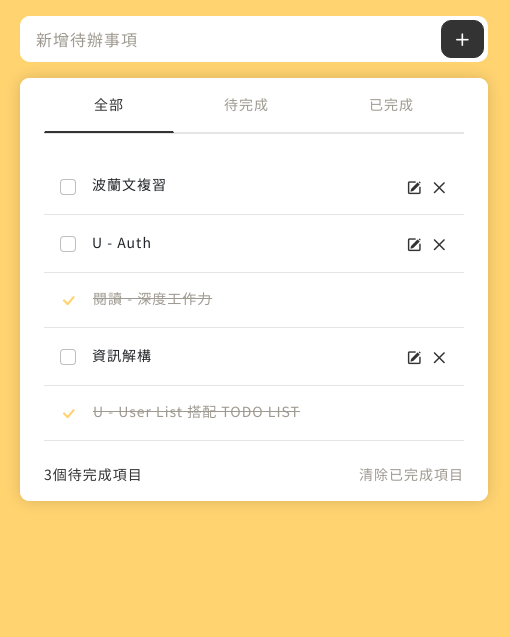
Test case: Todo List › Interaction › 新增資料時，項目增加在原先資料最上面
Type "1. 新增NEW JOBS" into the field with placeholder "新增待辦事項" at (228, 39), box [20, 16, 437, 62]
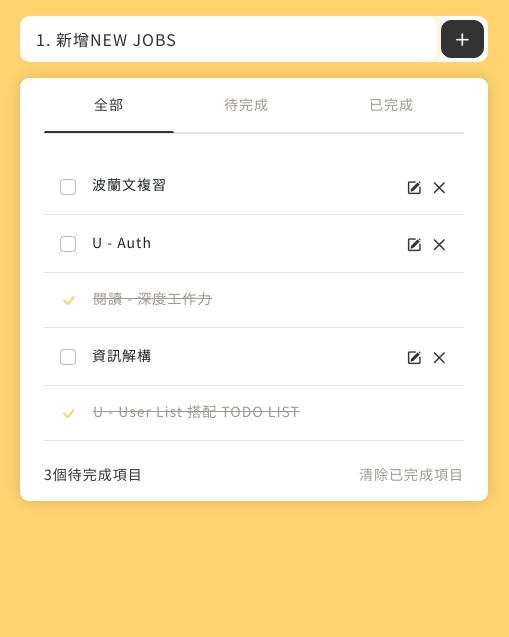
Click the button with test id "todo-form-add-button" at (462, 39), box [441, 20, 484, 58]
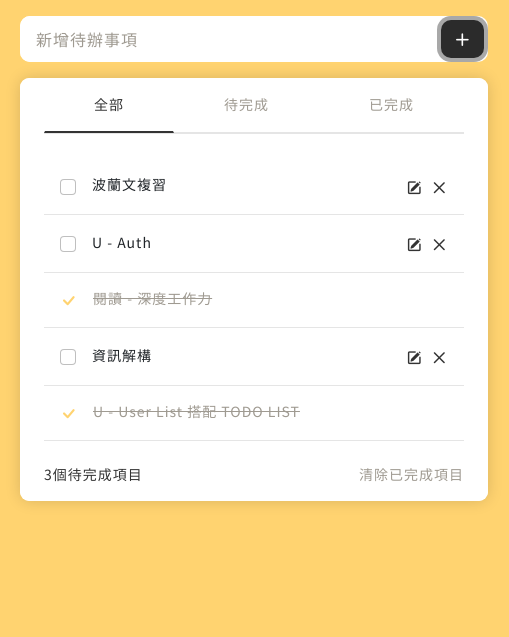
Type "2. 新增NEW JOBS" into the field with placeholder "新增待辦事項" at (228, 39), box [20, 16, 437, 62]
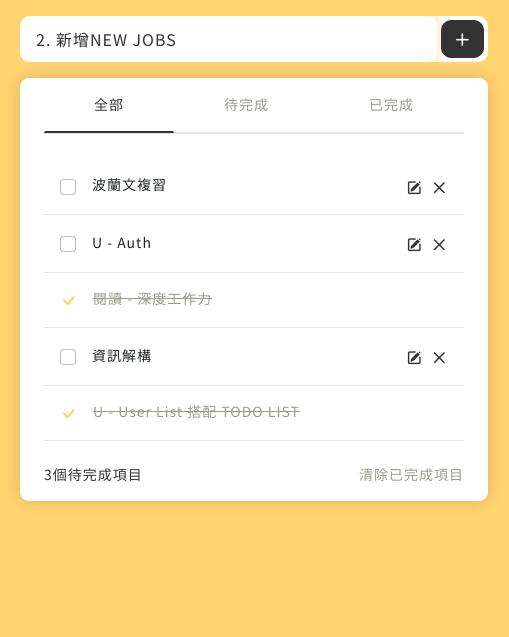
Click the button with test id "todo-form-add-button" at (462, 39), box [441, 20, 484, 58]
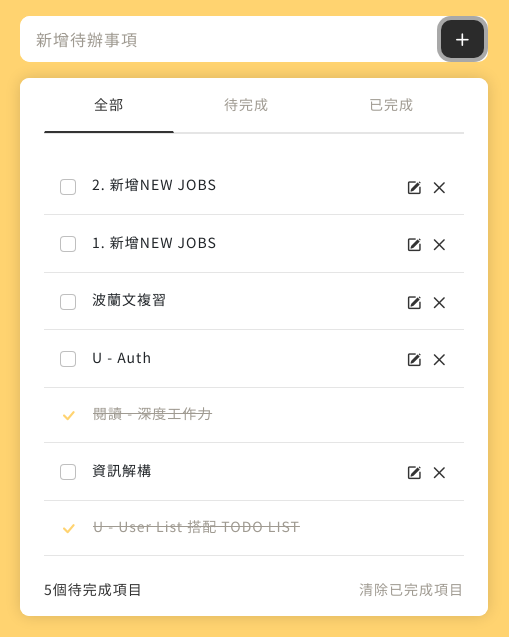
Check: the list item with test id "todo-item" reads "2. 新增NEW JOBS", box [92, 174, 217, 194]
